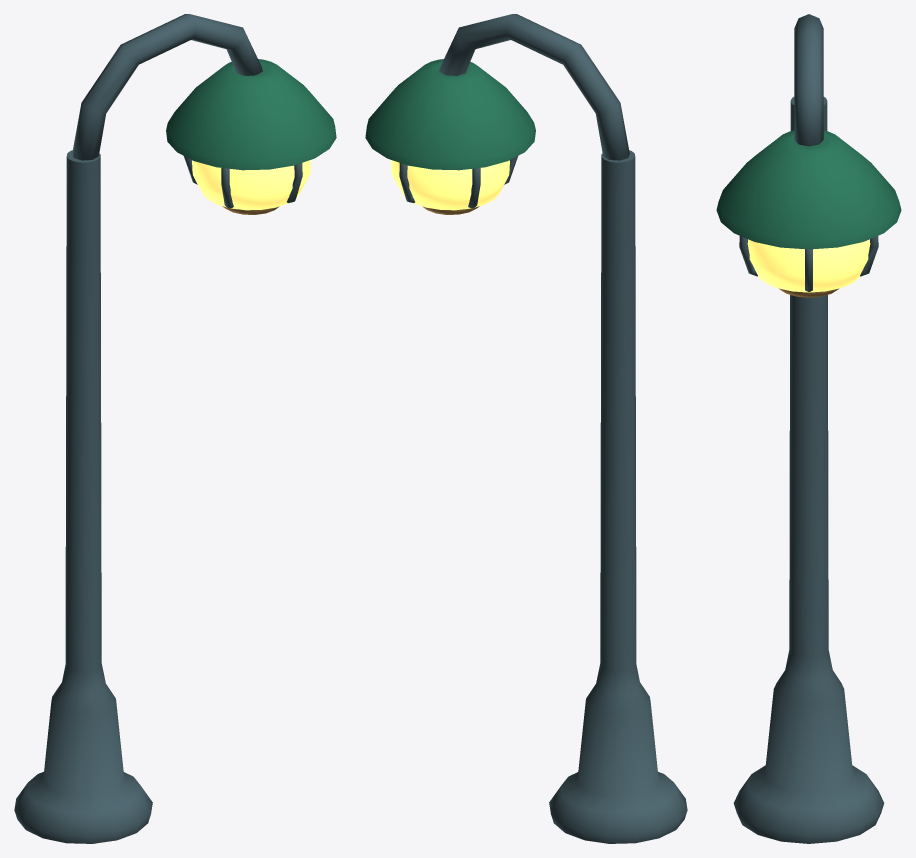
The model's file is lamp_post.glb.
The picture shows the model from 3 angles, left to right: view 1: azimuth 30°, elevation 25°; view 2: azimuth 150°, elevation 25°; view 3: azimuth 270°, elevation 25°; orthographic projection. The views are drawn at different scales.
Parts seen in each view (by area): view 1: Post, Bulb; view 2: Post, Bulb; view 3: Post, Bulb.
Part boxes in pixels (<box>): Post: <box>14,14,336,843</box>; Bulb: <box>192,160,310,210</box>; Post: <box>365,14,687,843</box>; Bulb: <box>391,160,509,210</box>; Post: <box>716,14,901,843</box>; Bulb: <box>747,239,870,292</box>.
Bounding box in the file's own units: 0.92 × 2.26 × 0.452.
